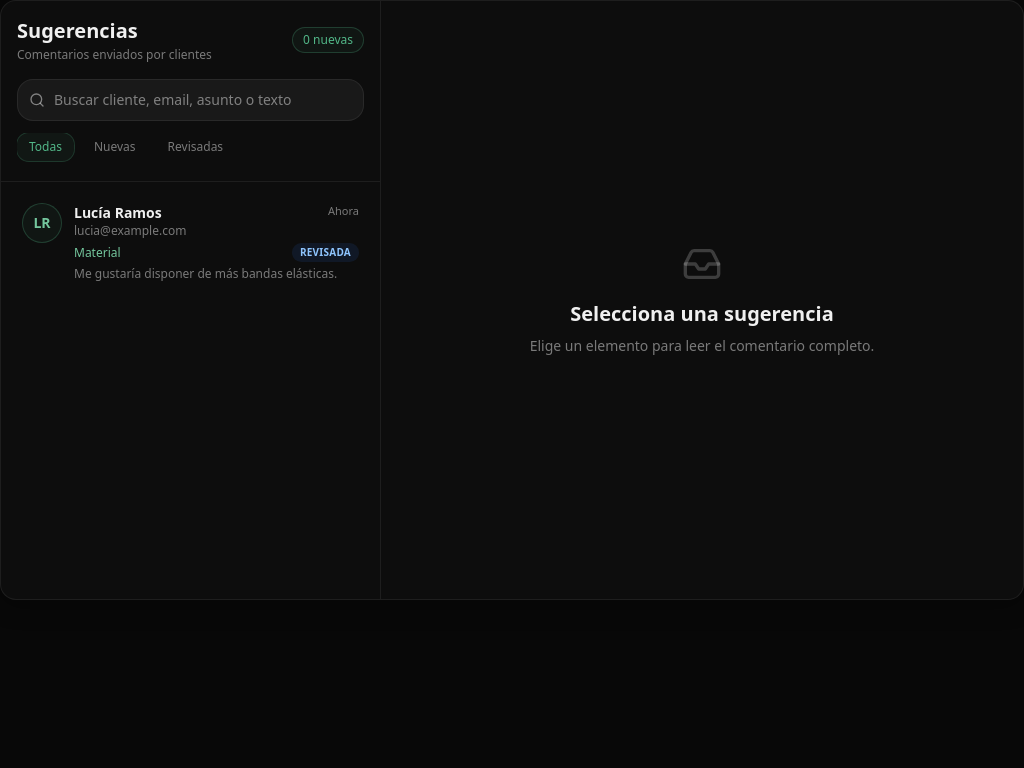
Test: CustomerSuggestionsPanel › marks a reviewed suggestion as new and reflects listener updates
The width and height of the screenshot is (1024, 768).
Click the button "Lucía Ramos". click: (42, 223)
box: [9,190,372,295]
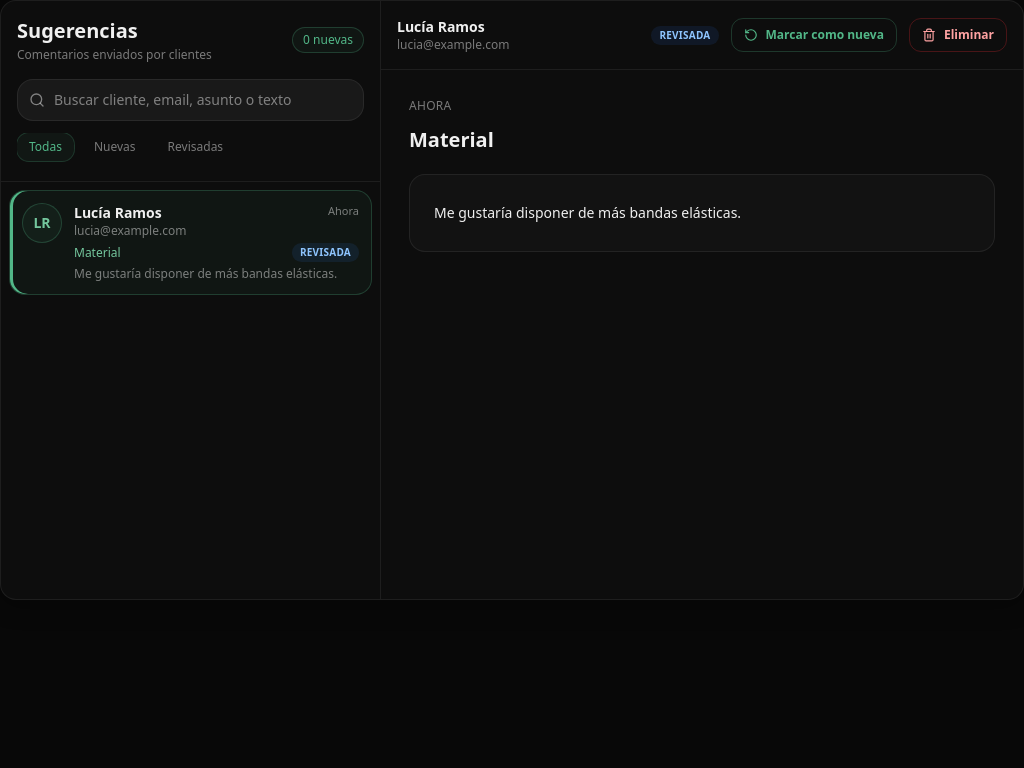
Expected: the button "Marcar como nueva" is shown
Expected: the button "Eliminar" is shown, [909,18,1007,52]
Click the button "Marcar como nueva". click: (814, 35)
box: [730,18,897,52]
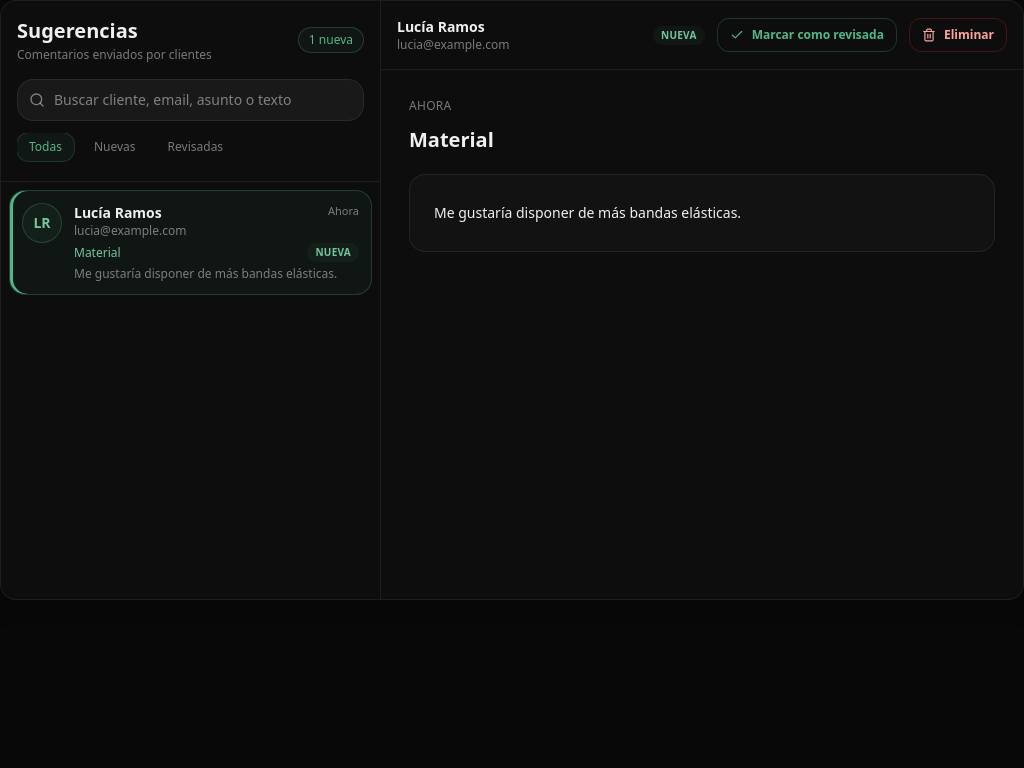
Expected: the text "1 nueva" is shown, [298,27,364,53]
Expected: the text "Nueva" below "Comentarios enviados por clientes" is shown, [316,245,351,259]
